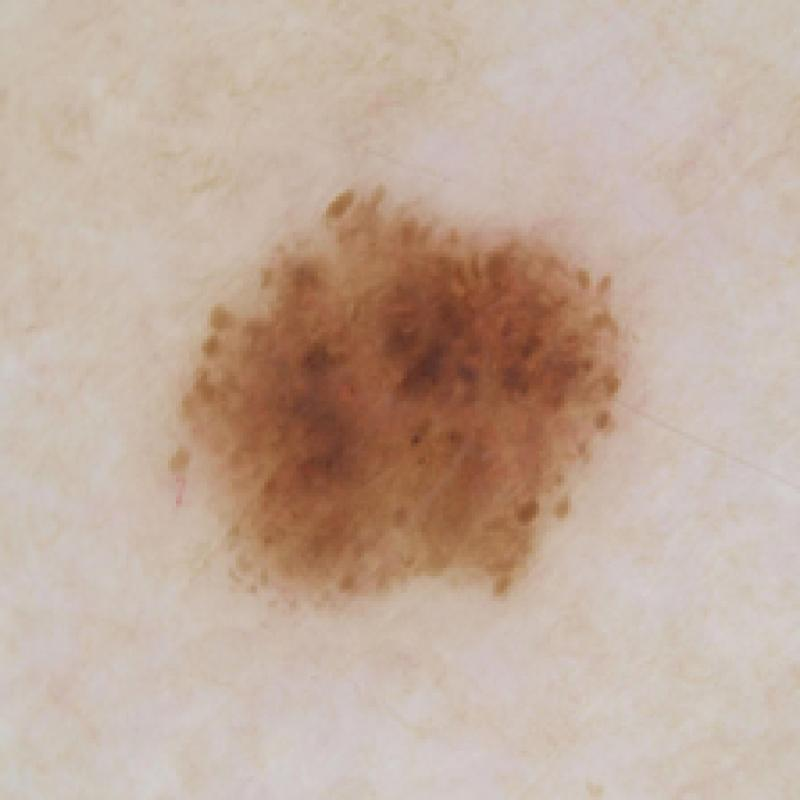benign: (166, 158, 637, 652)
